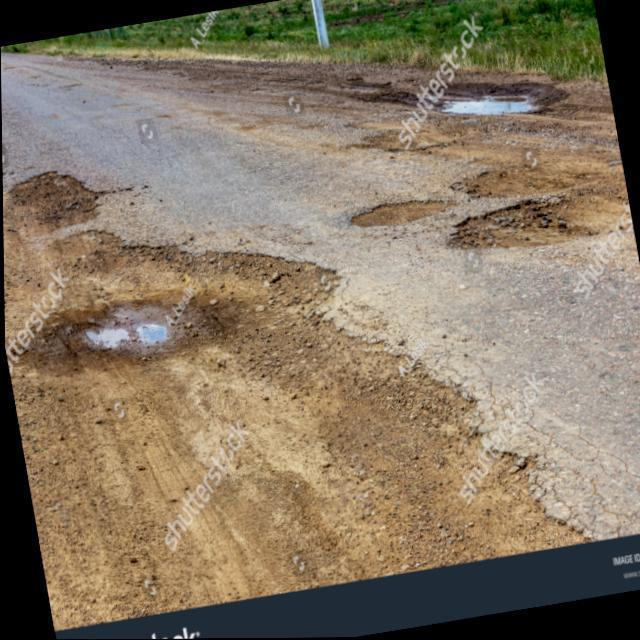Pothole: (8, 232, 599, 630), (444, 177, 634, 261), (368, 73, 574, 124), (3, 168, 120, 238), (352, 198, 462, 231)
